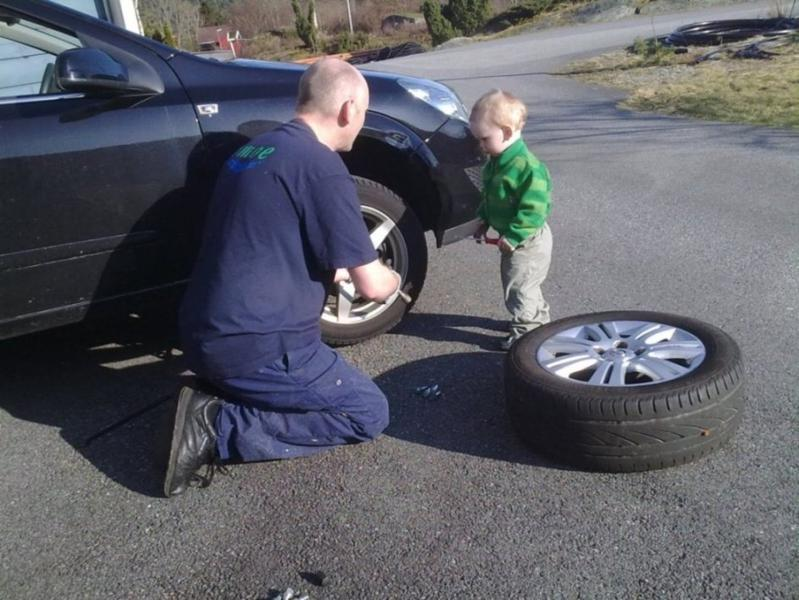person: (163, 56, 405, 501)
